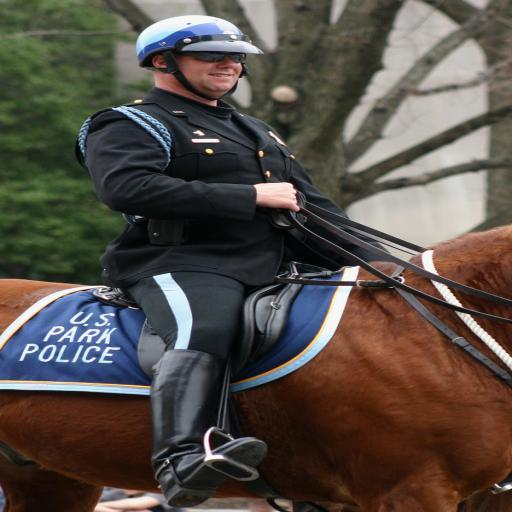Horse: (0, 222, 511, 511)
